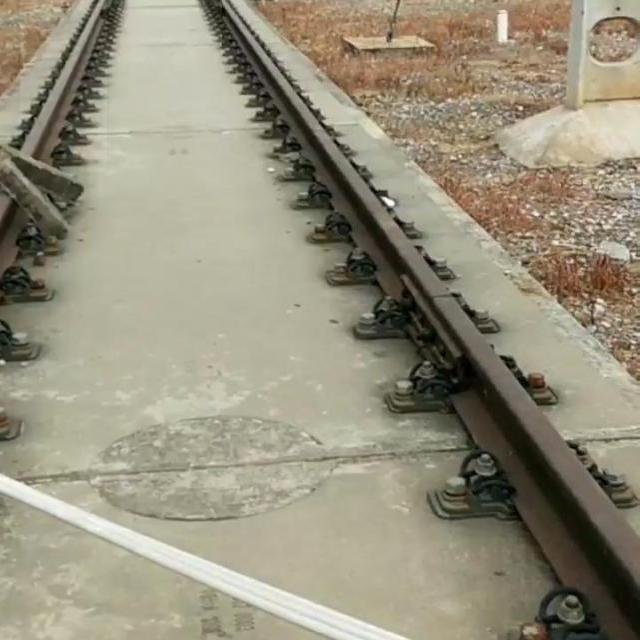rail: (224, 1, 640, 633), (22, 1, 108, 160)
